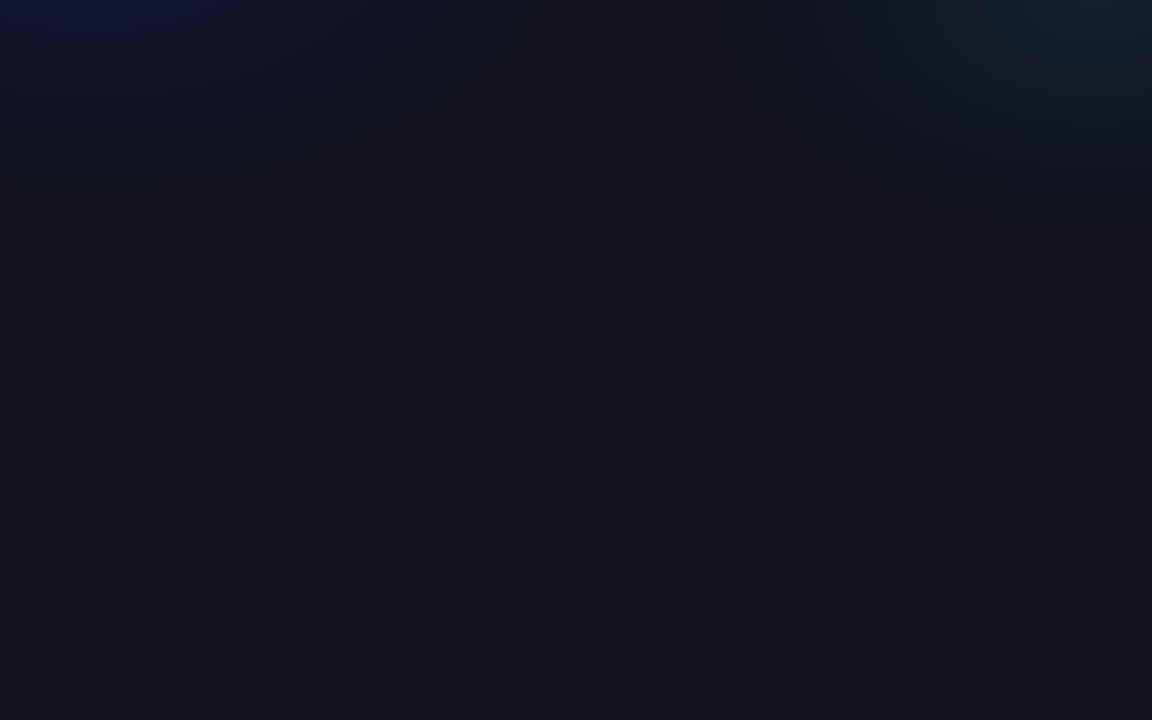
Scenario: CommandPalette › closes when the backdrop is clicked
Press k
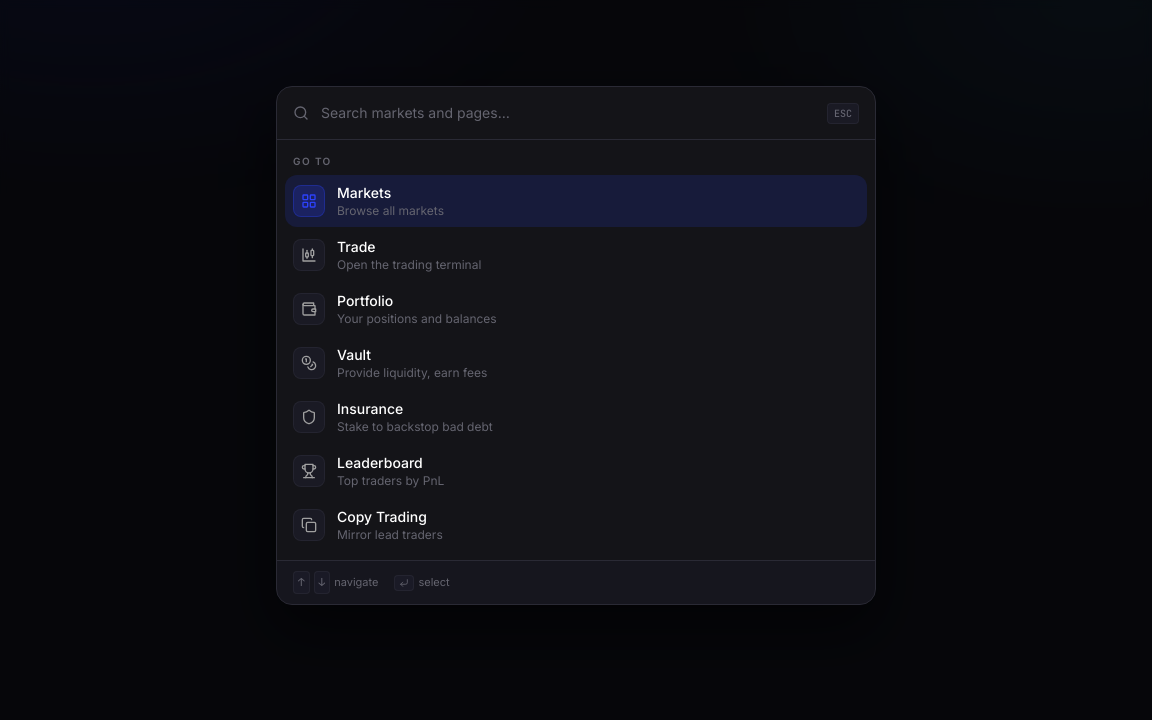
Press the mouse on the element that starts with "ESC" at (576, 360), box [0,0,1151,719]
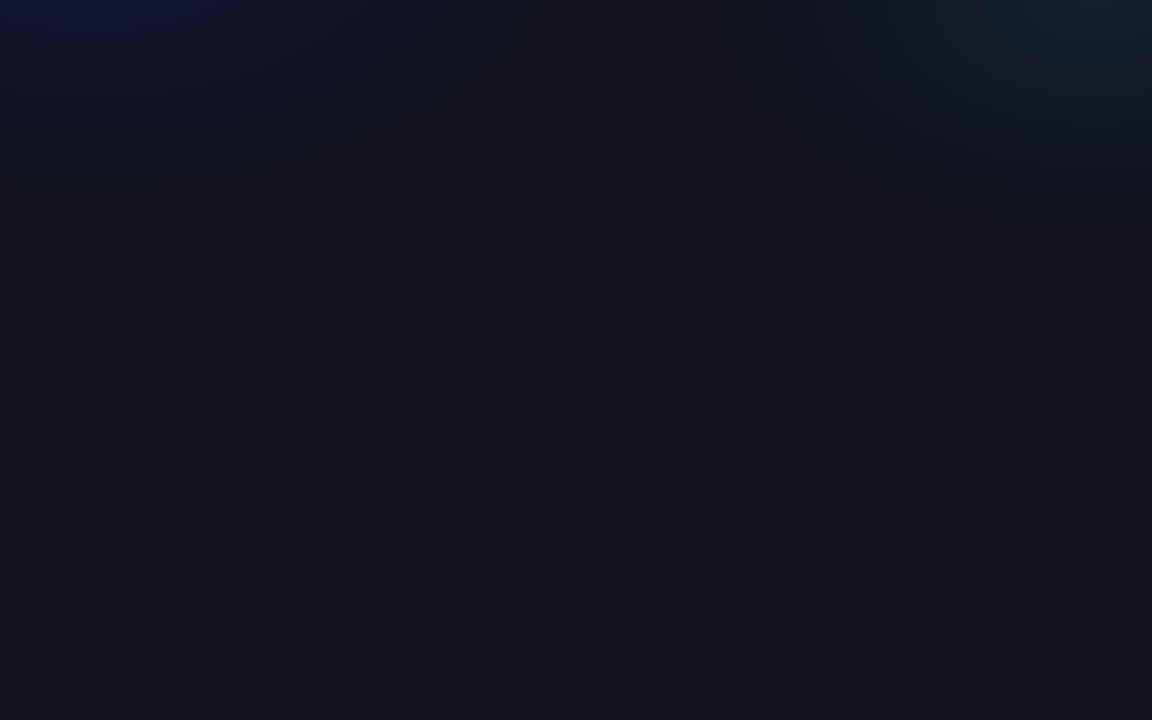
Result: the dialog is gone
